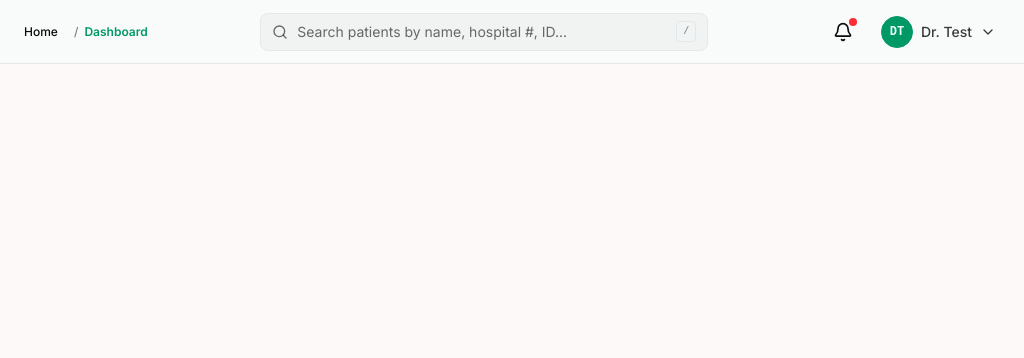
Scenario: Topbar notifications panel › clears the panel locally without removing them from the server
Click the button named "Notifications". click: point(843, 32)
box: [821,10,865,54]
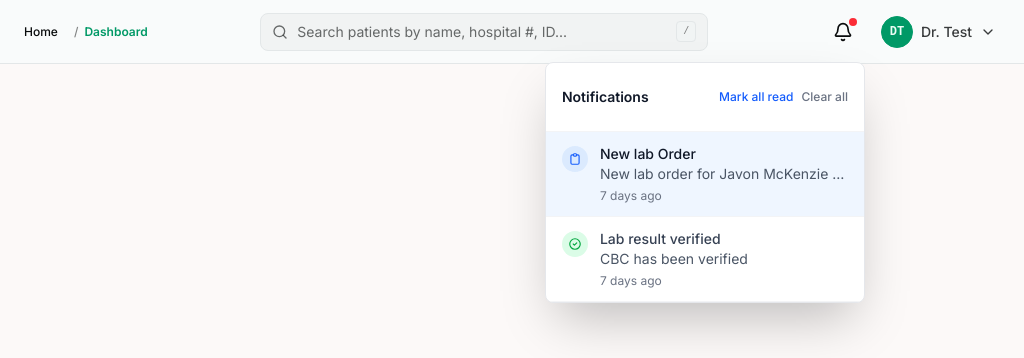
Click the button "Clear all". click: point(825, 96)
box: [801,74,848,118]
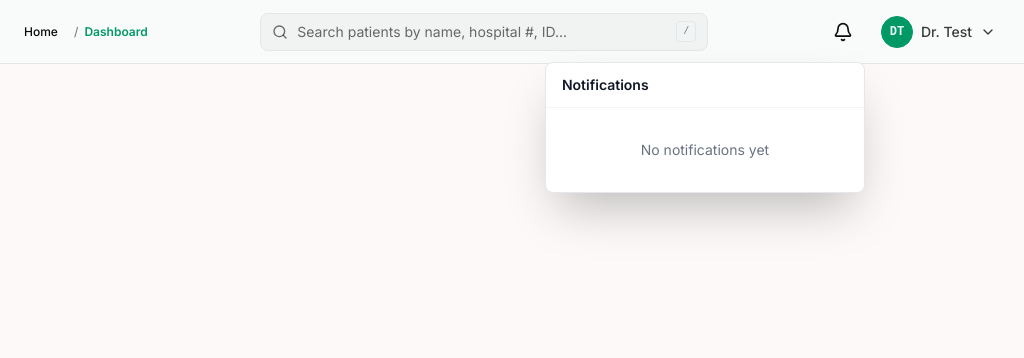
Now the text "No notifications yet" is shown, box [641,140,769,158]
